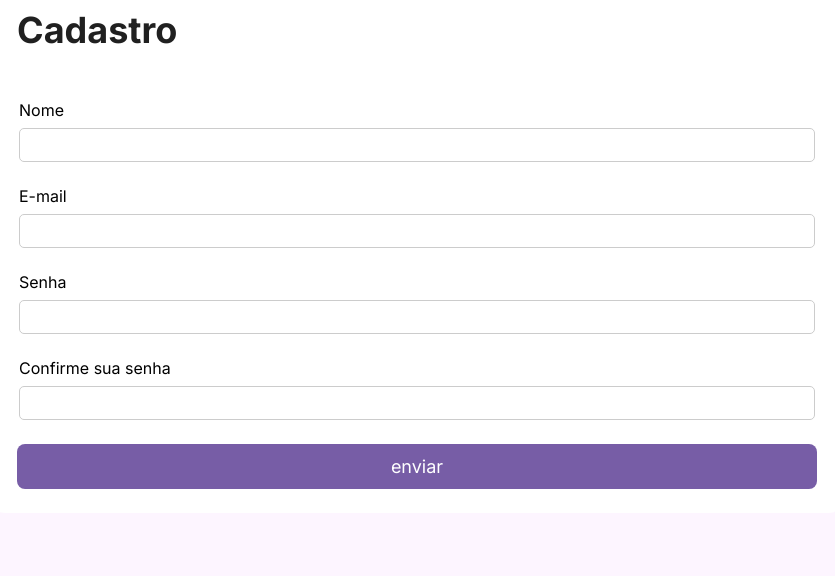
App › Simulates invalid form submition
Step 1. Type "John Wick" into the field labelled "Nome" → coordinates (417, 145), box top-left (19, 128), bottom-right (815, 162)
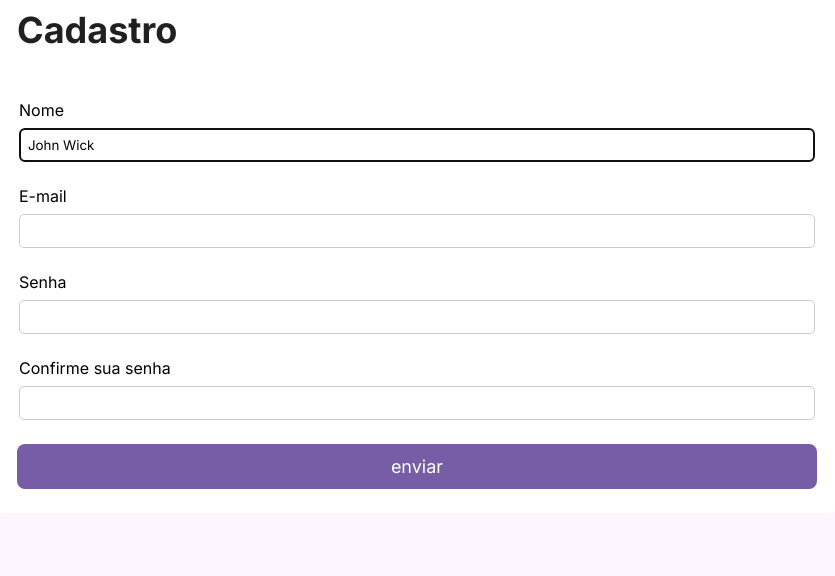
Step 2. Click the button "enviar" → coordinates (417, 466), box top-left (17, 444), bottom-right (817, 489)
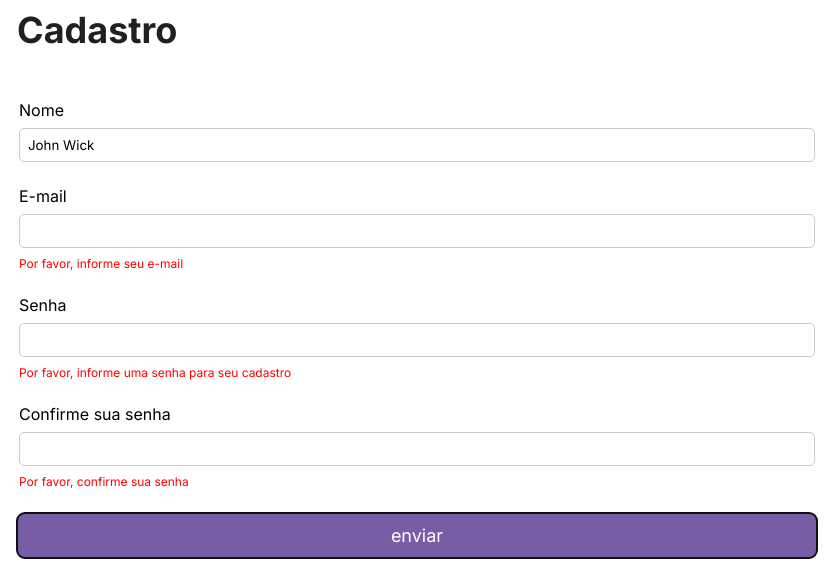
Expected: the text "Por favor, informe seu e-mail" is shown, top-left (19, 256), bottom-right (183, 271)
